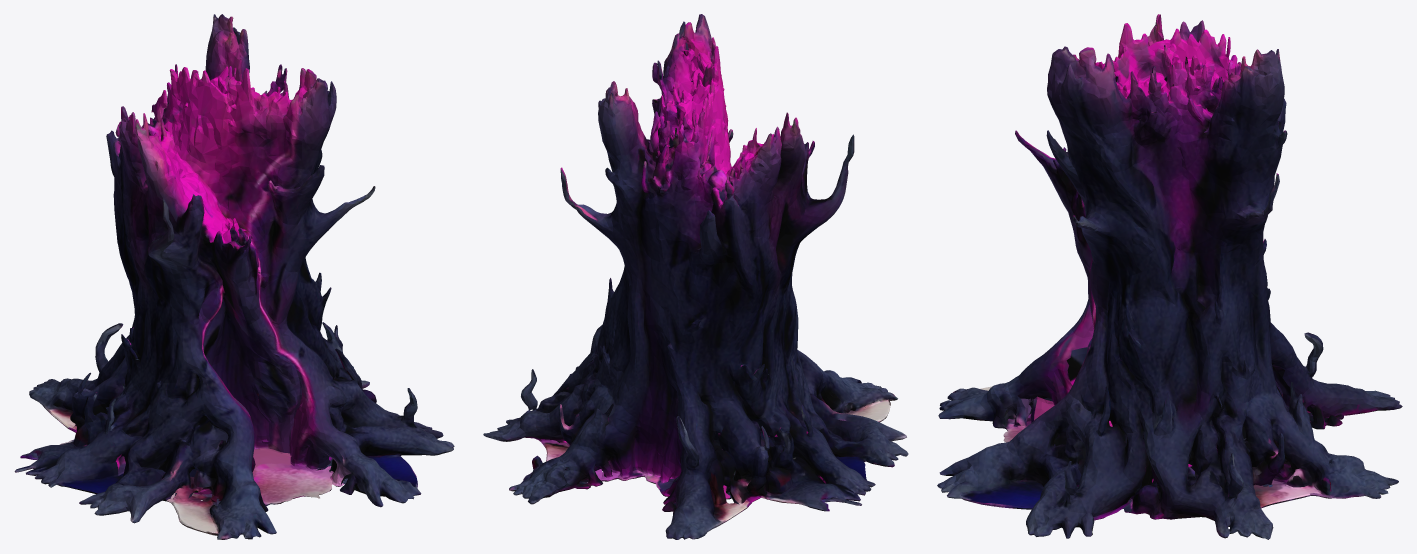
Rendered from root-north-generated-2026-04-19T06-07-51-983Z.high.glb.
The picture shows the model from 3 angles, left to right: view 1: azimuth 30°, elevation 25°; view 2: azimuth 150°, elevation 25°; view 3: azimuth 270°, elevation 25°; orthographic projection. The views are drawn at different scales.
Visible parts, largest first — view 1: temp_mesh.ply; view 2: temp_mesh.ply; view 3: temp_mesh.ply.
Part boxes in pixels (x1,y1,x2,y2): temp_mesh.ply: [14, 14, 454, 539]; temp_mesh.ply: [483, 14, 908, 539]; temp_mesh.ply: [937, 14, 1402, 539].
Bounding box in the file's own units: 1.9 × 1.97 × 1.94.
Materials: 1 (1 with a texture image).
